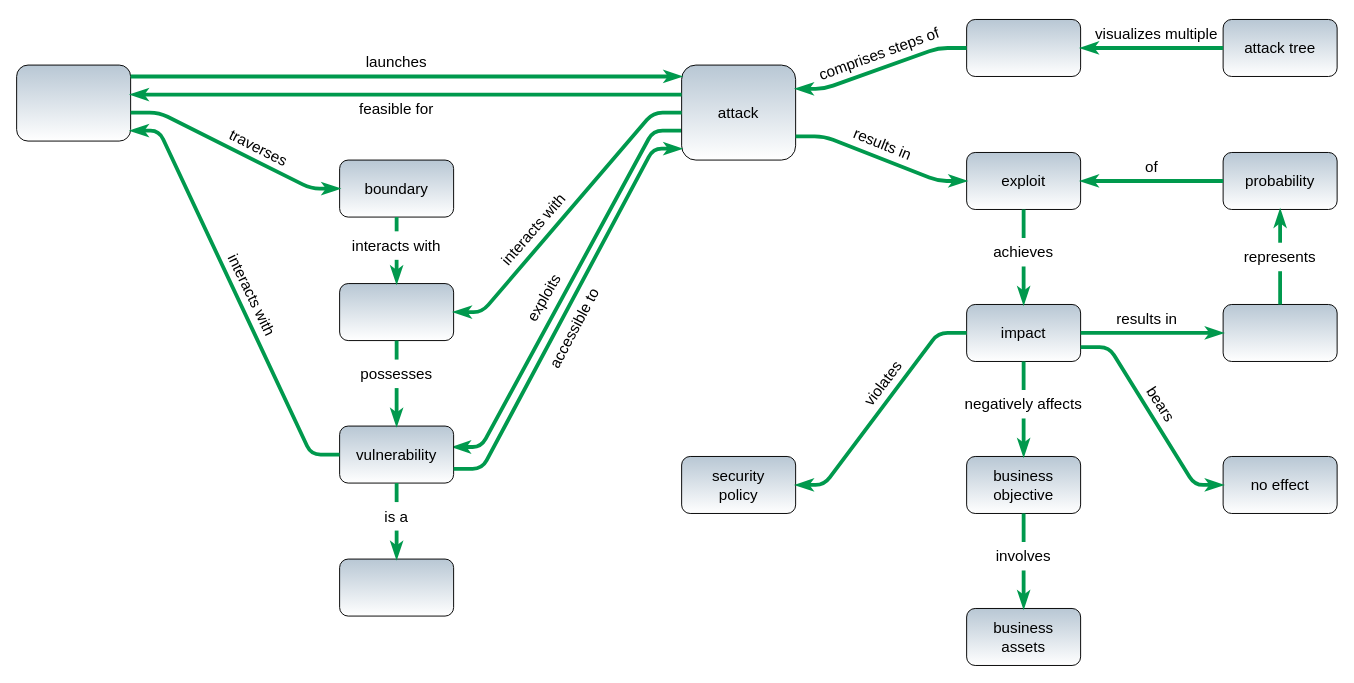
This 1354x683 diagram has some shape labels left out. The box of each missing label's shape, as (x1, y1, x2, y2) in pixels:
attack surface: (339, 283, 454, 341)
attack vectors: (966, 19, 1081, 76)
defect: (339, 558, 454, 616)
risk: (1222, 304, 1337, 361)
threat: (16, 64, 131, 141)
